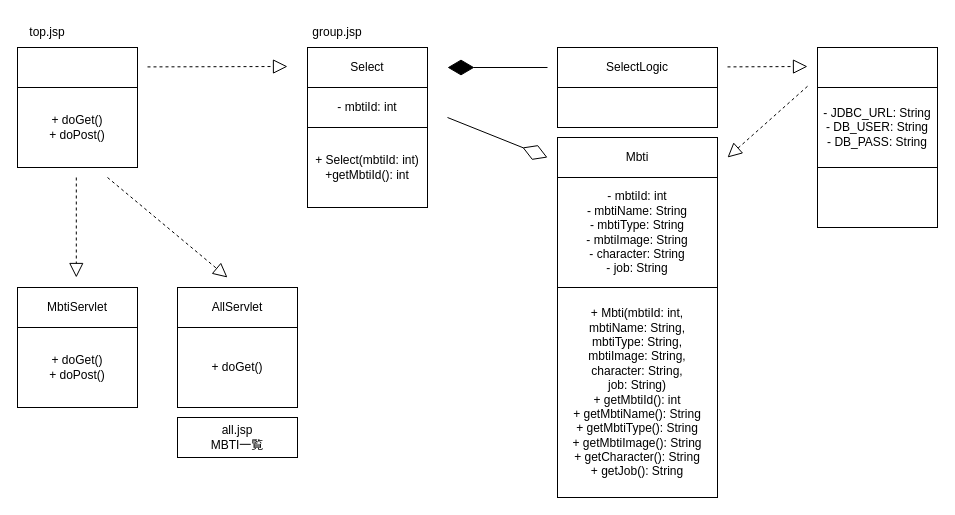
Image size: 955x515. Some labels were removed from this diagram. The box of each missing label's shape, as (x1, y1, x2, y2) in pixels:
+ execute(select: Select: Mbti: (556, 86, 718, 128)
+ findByLogin(select: Select): Mbti: (816, 166, 938, 228)
Main: (16, 46, 138, 88)
MbtiDAO: (816, 46, 938, 88)
